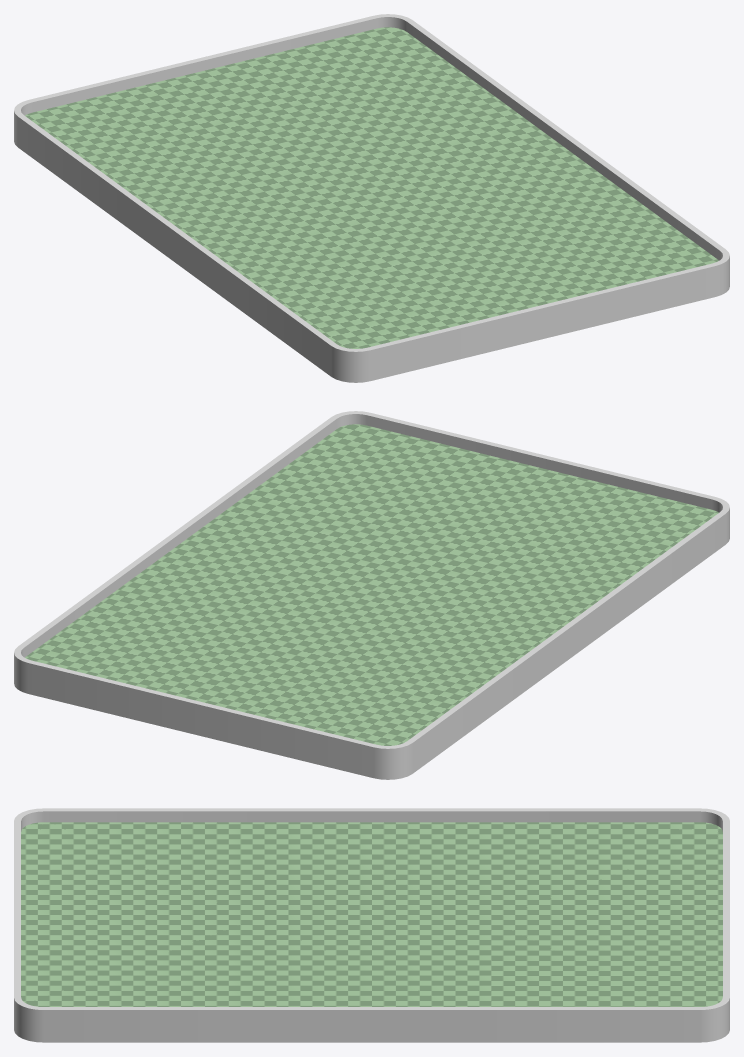
Rendered from golf.fbx.
3 views of the same model, one above another, from view 1: azimuth 30°, elevation 25°; view 2: azimuth 150°, elevation 25°; view 3: azimuth 270°, elevation 25° (orthographic). The views are drawn at different scales.
Visible parts, largest first — view 1: Floor_Corner.003, Floor_Corner.002, FLoor.001, Floor_Corner.001, Floor, Floor_Corner, Floor_Wall.003, Floor_Wall, Floor_Wall.002, Floor_Wall.001, Plane.001, Plane; view 2: Floor_Corner.001, Floor_Corner, FLoor.001, Floor_Corner.003, Floor, Floor_Corner.002, Floor_Wall.001, Floor_Wall.002, Floor_Wall, Floor_Wall.003, Plane.001, Plane; view 3: Floor, Floor_Corner, Floor_Corner.002, FLoor.001, Floor_Corner.001, Floor_Corner.003, Floor_Wall.001, Floor_Wall.003, Floor_Wall, Floor_Wall.002, Plane.001, Plane.
Boxes of the visible parts, box(x1,y1,x2,y2) form: Floor_Corner.003: box(231, 235, 542, 382); Floor_Corner.002: box(429, 188, 729, 338); FLoor.001: box(117, 151, 428, 303); Floor_Corner.001: box(14, 70, 314, 219); Floor: box(315, 105, 619, 234); Floor_Corner: box(205, 27, 505, 151); Floor_Wall.003: box(231, 271, 542, 362); Floor_Wall: box(201, 14, 511, 104); Floor_Wall.002: box(540, 176, 729, 318); Floor_Wall.001: box(14, 58, 204, 199); Plane.001: box(117, 188, 236, 282); Plane: box(506, 93, 625, 187); Floor_Corner.001: box(201, 632, 512, 779); Floor_Corner: box(14, 585, 314, 735); FLoor.001: box(315, 548, 626, 700); Floor_Corner.003: box(429, 467, 729, 616); Floor: box(124, 502, 428, 631); Floor_Corner.002: box(238, 424, 538, 548); Floor_Wall.001: box(201, 668, 512, 759); Floor_Wall.002: box(232, 411, 542, 501); Floor_Wall: box(14, 573, 203, 715); Floor_Wall.003: box(539, 455, 729, 596); Plane.001: box(507, 585, 626, 679); Plane: box(118, 490, 237, 584); Floor: box(252, 920, 491, 1042); Floor_Corner: box(491, 920, 729, 1042); Floor_Corner.002: box(14, 920, 252, 1042); FLoor.001: box(252, 822, 491, 919); Floor_Corner.001: box(491, 822, 722, 919); Floor_Corner.003: box(21, 822, 252, 919); Floor_Wall.001: box(491, 808, 729, 909); Floor_Wall.003: box(14, 808, 252, 909); Floor_Wall: box(491, 909, 729, 1020); Floor_Wall.002: box(14, 909, 252, 1020); Plane.001: box(252, 808, 491, 822); Plane: box(252, 1007, 491, 1020).
Bounding box in the file's own units: 2000 × 150 × 3000.
